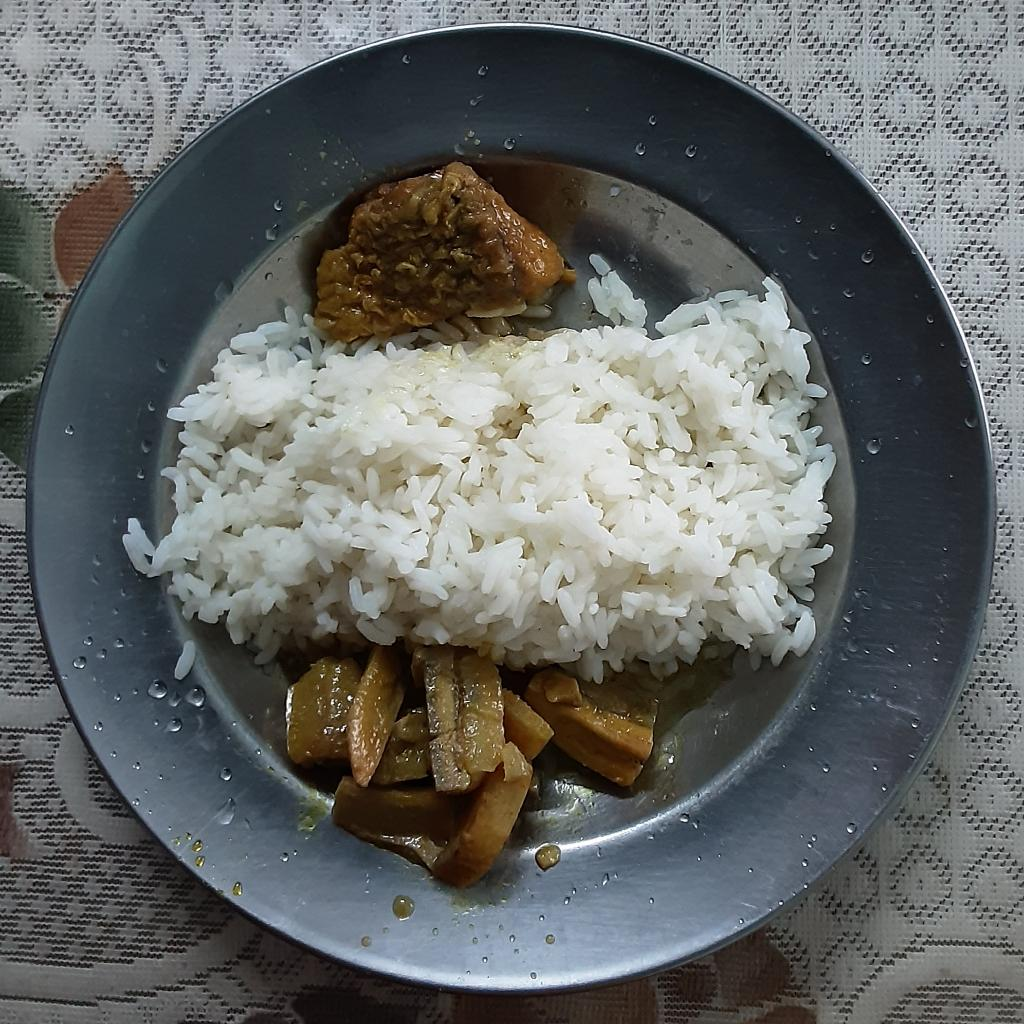banana: (282, 644, 662, 883)
fish: (312, 159, 568, 335)
rice: (120, 262, 841, 691), (166, 643, 190, 680)
